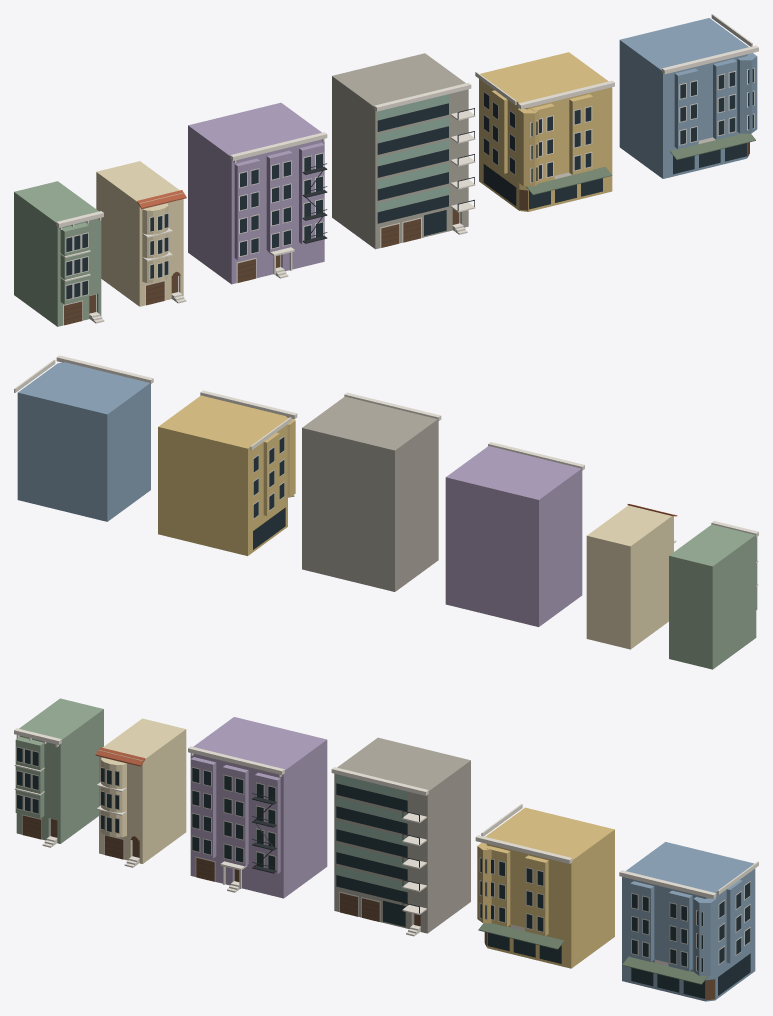
Rendered from sf-apartments.glb.
3 renders of one model, top to bottom at view 1: azimuth 30°, elevation 25°; view 2: azimuth 150°, elevation 25°; view 3: azimuth 330°, elevation 25°, orthographic.
Visible parts, largest first — view 1: sf_apartment_b_body, sf_apartment_a_body, sf_corner_r_body, sf_corner_l_body, sf_flats_a_body, sf_flats_b_body; view 2: sf_apartment_b_body, sf_apartment_a_body, sf_corner_r_body, sf_corner_l_body, sf_flats_a_body, sf_flats_b_body; view 3: sf_apartment_b_body, sf_apartment_a_body, sf_corner_l_body, sf_corner_r_body, sf_flats_b_body, sf_flats_a_body.
Part boxes in pixels (left/top/right/bottom): sf_apartment_b_body: left=332, top=53, right=475, bottom=249; sf_apartment_a_body: left=188, top=102, right=327, bottom=284; sf_corner_r_body: left=619, top=14, right=758, bottom=178; sf_corner_l_body: left=475, top=52, right=614, bottom=211; sf_flats_a_body: left=14, top=181, right=104, bottom=326; sf_flats_b_body: left=96, top=161, right=186, bottom=306; sf_apartment_b_body: left=302, top=392, right=441, bottom=591; sf_apartment_a_body: left=445, top=442, right=584, bottom=626; sf_corner_r_body: left=14, top=355, right=153, bottom=521; sf_corner_l_body: left=158, top=390, right=297, bottom=555; sf_flats_a_body: left=669, top=521, right=758, bottom=669; sf_flats_b_body: left=586, top=504, right=677, bottom=649; sf_apartment_b_body: left=331, top=737, right=470, bottom=936; sf_apartment_a_body: left=188, top=717, right=327, bottom=898; sf_corner_l_body: left=475, top=804, right=614, bottom=968; sf_corner_r_body: left=619, top=842, right=758, bottom=1001; sf_flats_b_body: left=95, top=718, right=186, bottom=867; sf_flats_a_body: left=14, top=698, right=103, bottom=847.
Bounding box in the file's own units: 102 × 20 × 12.9.
